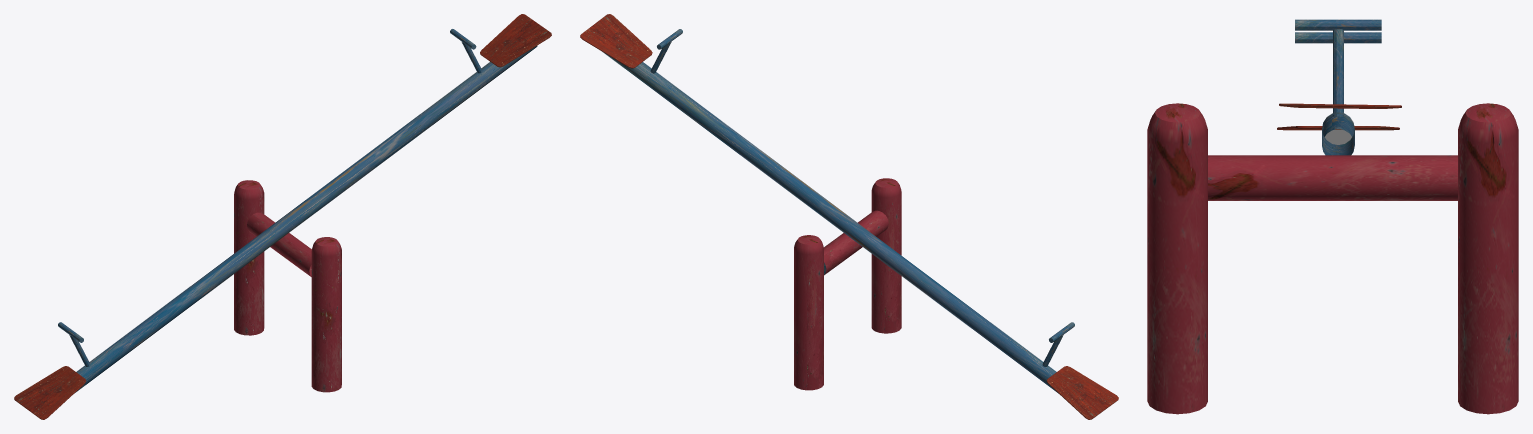
The model's file is balancin.obj.
The picture shows the model from 3 angles, left to right: view 1: azimuth 30°, elevation 25°; view 2: azimuth 150°, elevation 25°; view 3: azimuth 270°, elevation 25°; orthographic projection. The views are drawn at different scales.
Visible parts, largest first — view 1: subeybaja; view 2: subeybaja; view 3: subeybaja.
Part boxes in pixels (bbox=[...]): subeybaja: bbox=[14, 14, 551, 419]; subeybaja: bbox=[580, 14, 1118, 419]; subeybaja: bbox=[1147, 19, 1518, 414].
Size of the model in its own units: 2.18 by 1.13 by 0.6849.
Materials: 4 (3 with a texture image).
